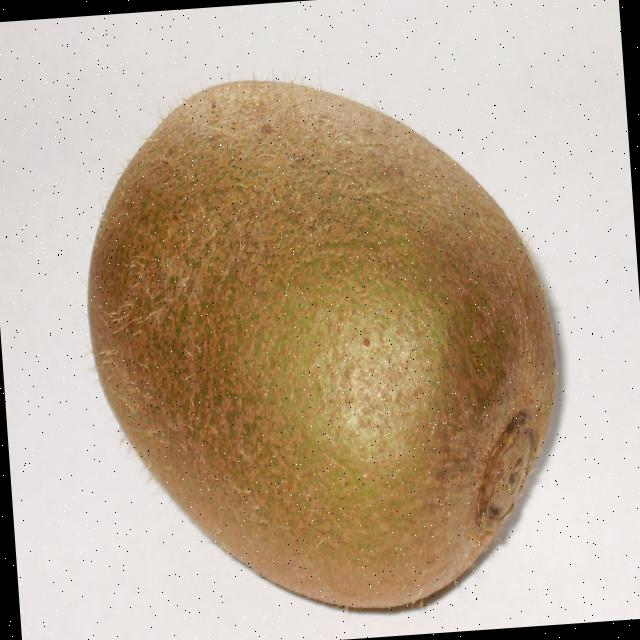kiwi: (87, 81, 556, 609)
